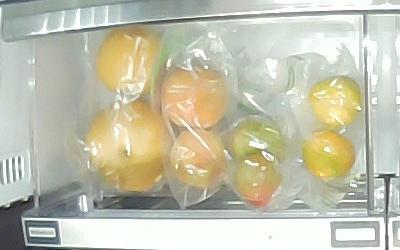peach_vinyl: (161, 66, 228, 129), (170, 129, 228, 189)
pear_vinyl: (86, 100, 175, 192), (96, 28, 166, 96)
tangerine_vinyl: (303, 130, 355, 181), (309, 77, 362, 126)
tomato_vinyl: (235, 152, 282, 208), (231, 120, 284, 156)
